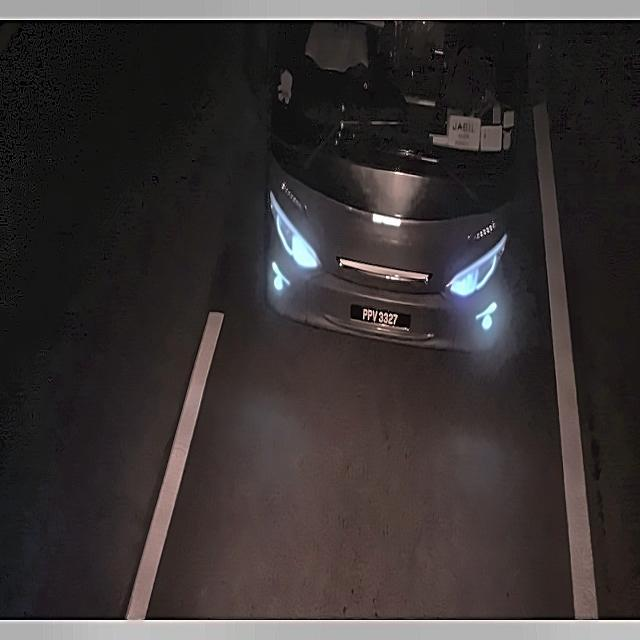car: (344, 289, 416, 343)
